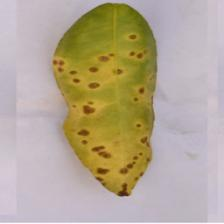canker: (46, 46, 170, 194)
